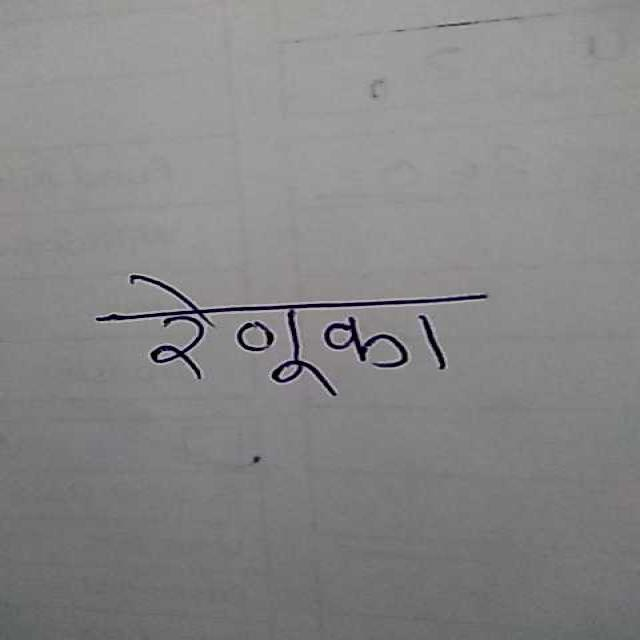signature: (78, 261, 506, 408)
